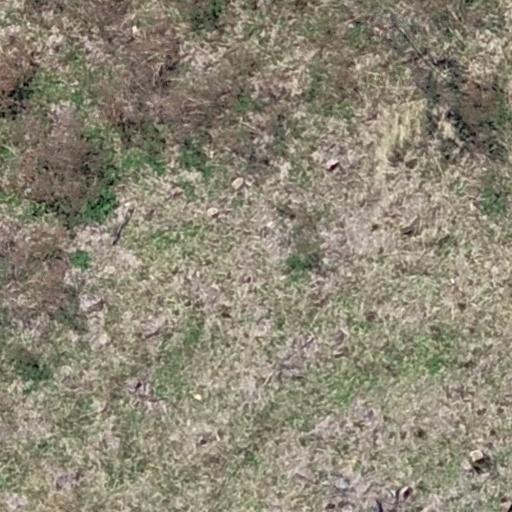stone: (286, 464, 320, 486), (383, 480, 420, 500), (44, 30, 68, 54), (62, 268, 84, 289), (361, 493, 385, 512), (395, 215, 419, 233), (277, 159, 293, 183), (469, 446, 492, 462), (310, 284, 326, 307), (78, 298, 104, 312), (92, 331, 112, 349), (202, 446, 221, 464), (250, 322, 271, 338), (57, 364, 76, 380), (324, 159, 344, 174), (332, 475, 350, 491), (359, 481, 375, 497), (101, 264, 119, 278), (365, 220, 381, 235), (461, 459, 476, 474), (230, 176, 246, 190), (170, 186, 184, 200), (194, 432, 209, 444), (156, 62, 166, 80), (206, 206, 218, 220), (500, 498, 512, 511), (371, 25, 385, 36), (237, 274, 253, 283), (475, 404, 487, 416), (496, 404, 508, 416), (192, 392, 204, 403), (122, 200, 134, 211), (131, 24, 141, 37), (418, 506, 438, 512), (456, 297, 466, 307), (266, 220, 276, 230)
